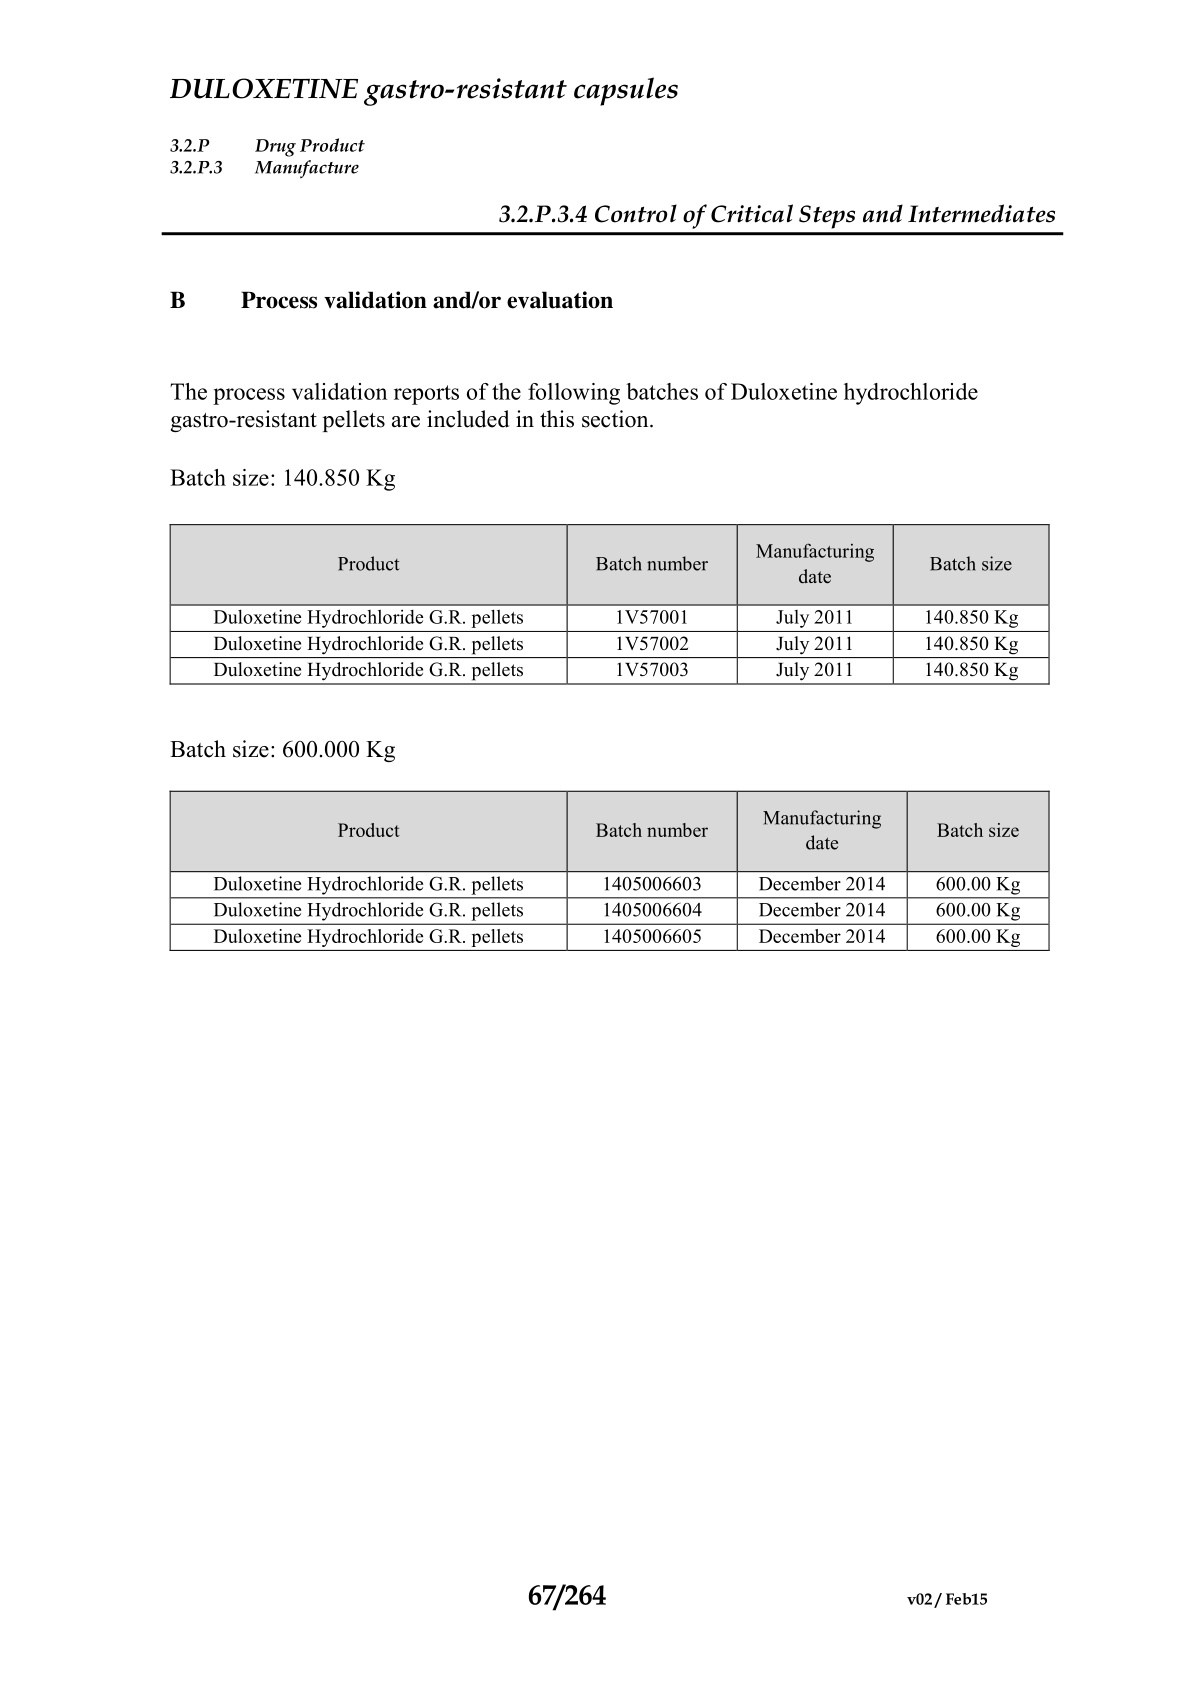full_lined: (168, 523, 1051, 686), (168, 789, 1051, 951)
